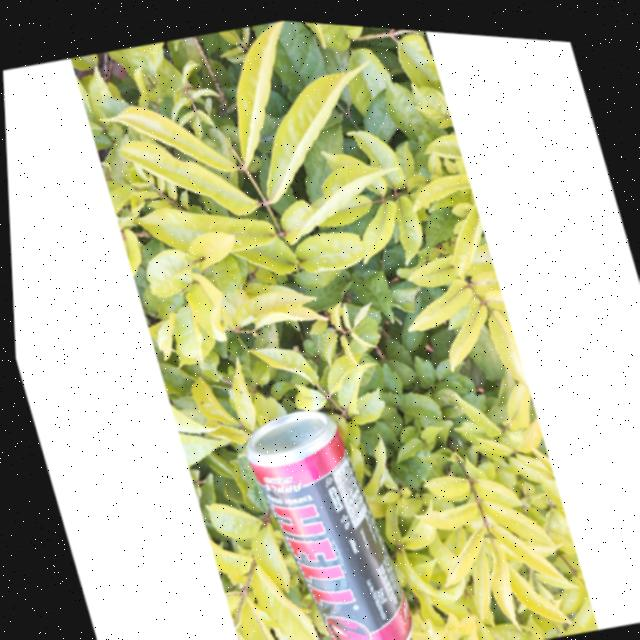Hell Apple: (228, 395, 419, 640)
